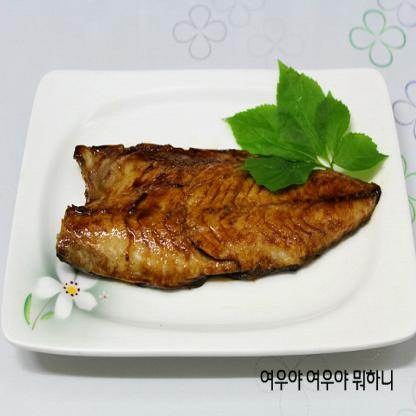Peixe: (41, 127, 381, 297)
